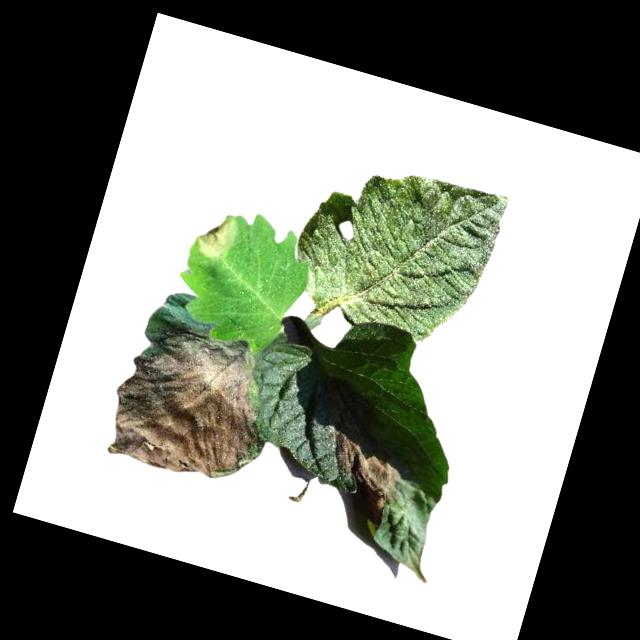Late_blight: (98, 312, 282, 494), (311, 429, 410, 533), (191, 205, 243, 264)
